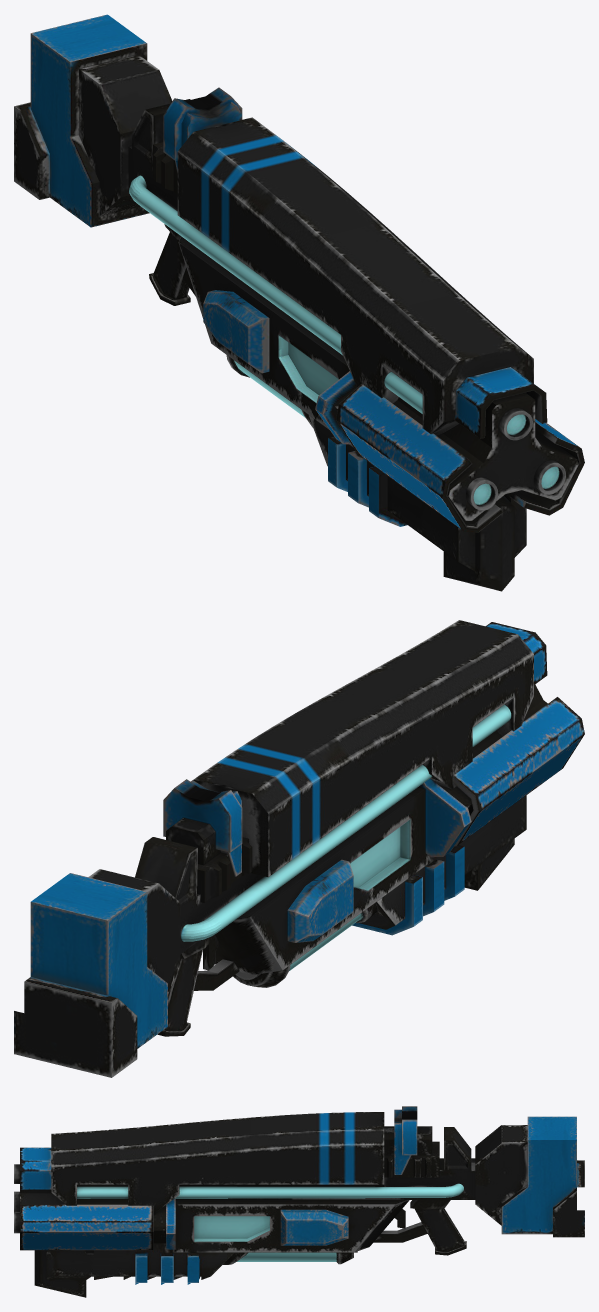
File: shotgun_high.glb
3 renders of one model, top to bottom at view 1: azimuth 30°, elevation 25°; view 2: azimuth 150°, elevation 25°; view 3: azimuth 270°, elevation 25°, orthographic. The views are drawn at different scales.
Visible parts, largest first — view 1: shotgun; view 2: shotgun; view 3: shotgun.
Part boxes in pixels (x1,y1,x2,y2): shotgun: [14, 14, 584, 591]; shotgun: [14, 620, 584, 1077]; shotgun: [14, 1106, 584, 1297].
Size of the model in its own units: 0.1219 by 0.2239 by 0.6451.
1 material, 1 textured.
